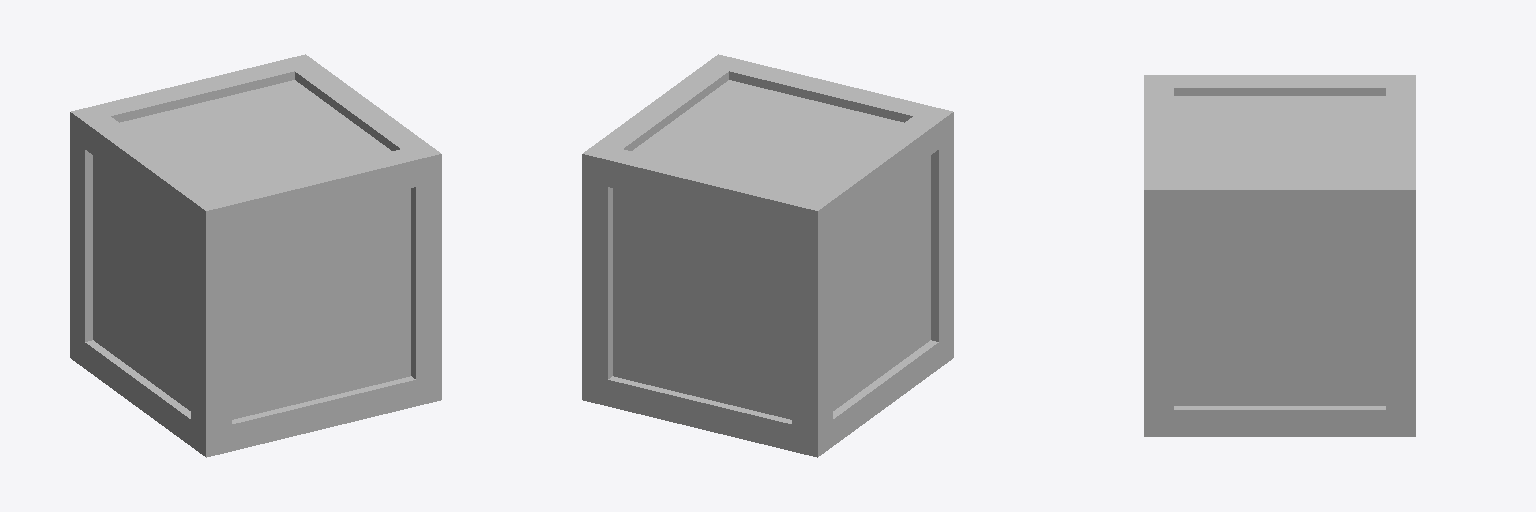
Rendered from container.obj.
The picture shows the model from 3 angles: view 1: azimuth 30°, elevation 25°; view 2: azimuth 150°, elevation 25°; view 3: azimuth 270°, elevation 25°; orthographic projection.
Visible parts, largest first — view 1: Cube; view 2: Cube; view 3: Cube.
Boxes of the visible parts, x1,y1,x2,y2 form: Cube: [70, 54, 441, 457]; Cube: [582, 54, 953, 457]; Cube: [1144, 75, 1415, 436].
Bounding box in the file's own units: 2.15 × 2.15 × 2.15.